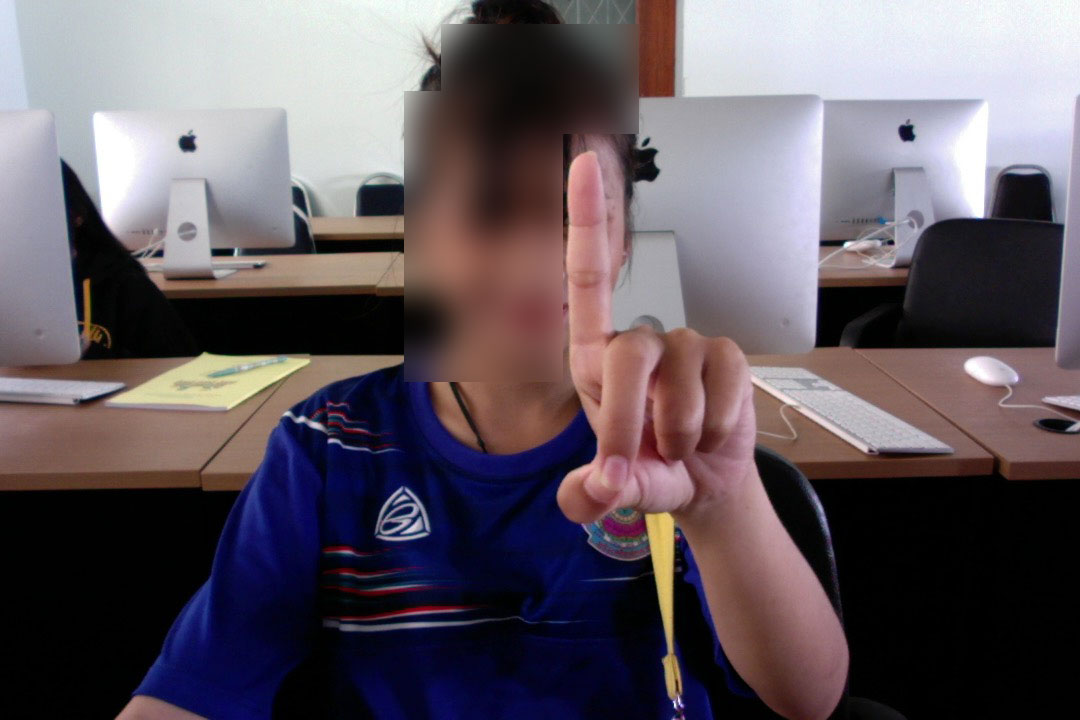dor: (556, 142, 771, 564)
